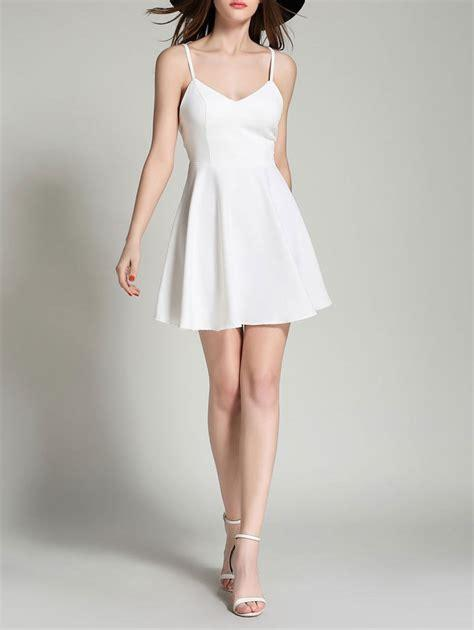dress: (154, 44, 336, 330)
